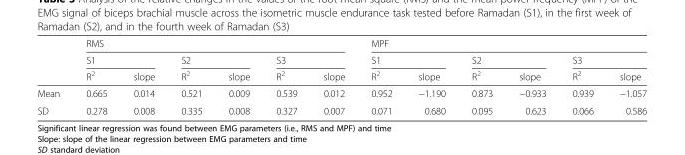table: (36, 37, 646, 116)
table column: (404, 37, 457, 116), (505, 37, 558, 116), (119, 37, 167, 116), (214, 37, 262, 116), (309, 37, 357, 116), (457, 37, 505, 116), (72, 37, 119, 116), (167, 37, 214, 116), (262, 37, 309, 116), (357, 37, 404, 116), (558, 37, 605, 116), (605, 37, 646, 116), (36, 37, 72, 116)
table column header: (36, 37, 646, 84)
table row: (36, 67, 646, 84), (36, 84, 646, 101), (36, 51, 646, 67), (36, 101, 646, 116), (36, 37, 646, 51)
table spanning cell: (357, 37, 646, 51), (72, 37, 357, 51), (457, 51, 558, 67), (357, 51, 457, 67), (72, 51, 167, 67), (167, 51, 262, 67), (262, 51, 357, 67), (558, 51, 646, 67)
